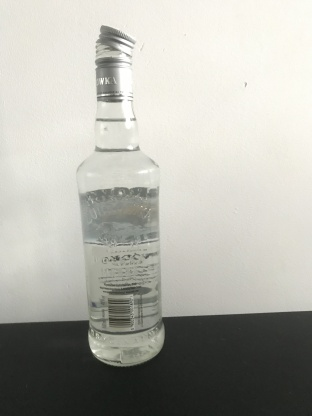nakretka: (93, 22, 137, 103)
